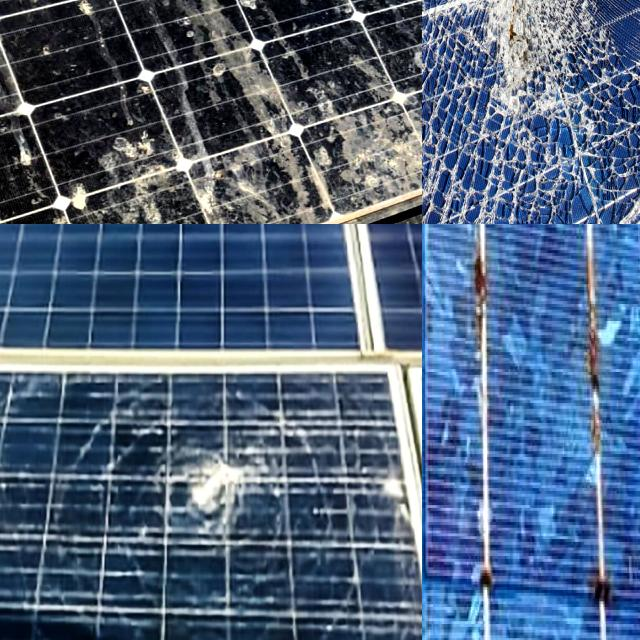bird: (100, 52, 215, 224), (240, 73, 380, 194), (230, 0, 370, 72), (244, 0, 379, 74), (0, 116, 66, 224), (72, 0, 164, 77), (0, 0, 109, 57), (0, 0, 59, 94), (264, 0, 422, 32), (164, 0, 240, 65)
hotspot: (422, 0, 603, 157), (163, 424, 302, 554), (422, 146, 551, 224), (365, 451, 422, 552), (578, 147, 640, 197)
shadow: (558, 224, 638, 629), (450, 224, 503, 612)
